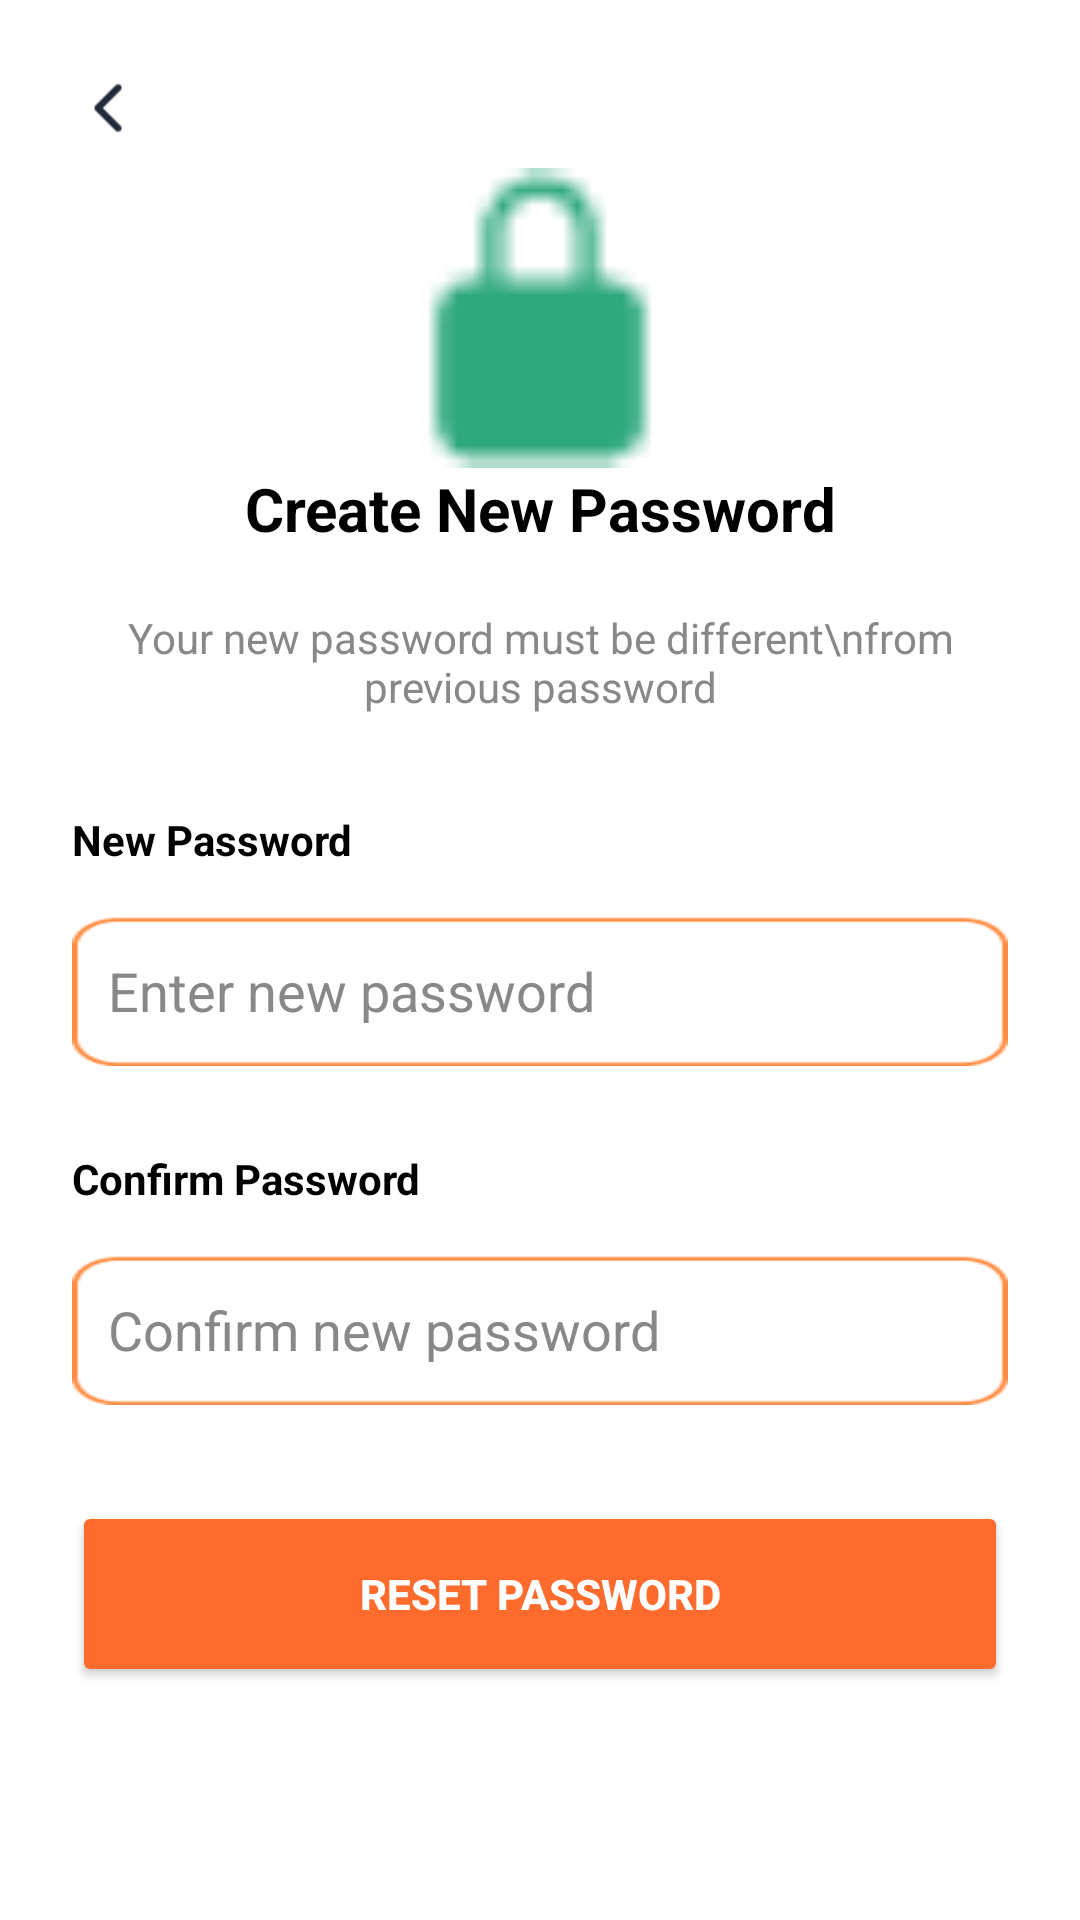

Point at icon controls on the screen. Image size 1080w x 1920h, points as [x,y].
Back: [108,108]
Lock Icon: [540,318]
